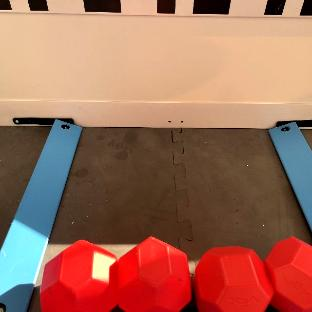V5_RED: (39, 237, 189, 312), (195, 237, 312, 312)
